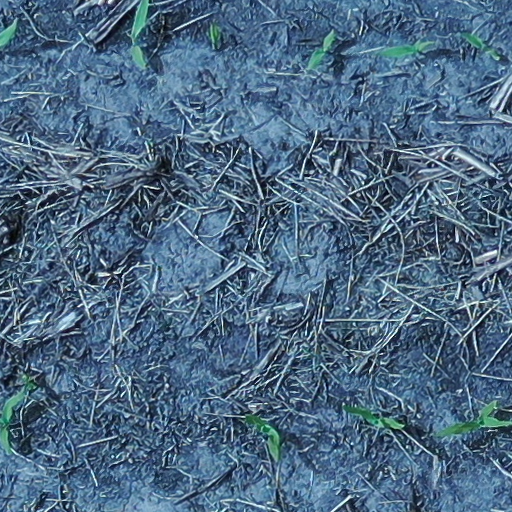planta: (243, 415, 279, 460), (342, 405, 406, 429), (464, 33, 501, 59), (309, 30, 334, 68), (377, 41, 437, 56)
